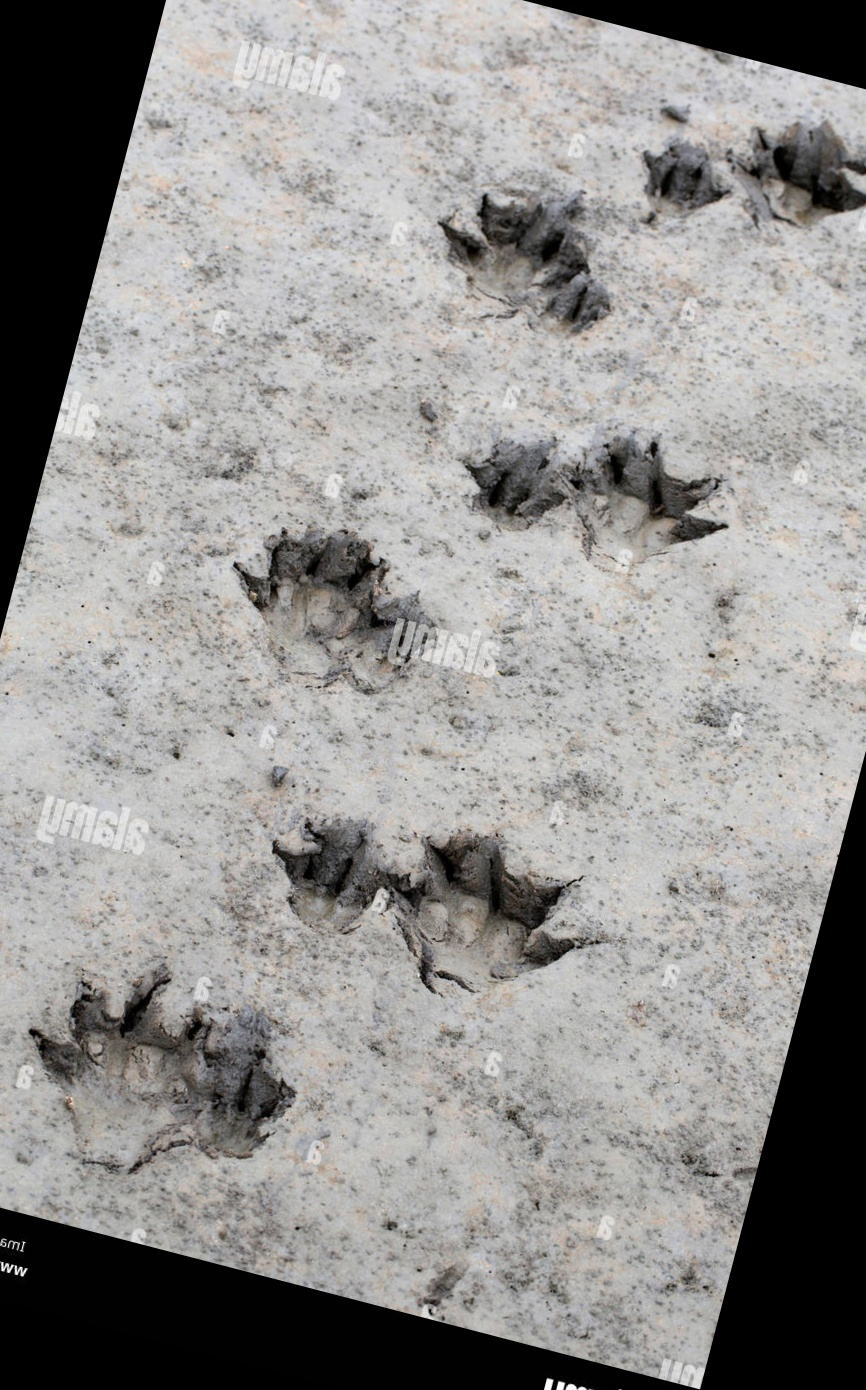beaver: (228, 762, 679, 1060), (0, 925, 360, 1257), (429, 376, 787, 610), (167, 486, 473, 756), (364, 153, 687, 398), (619, 66, 866, 312)
